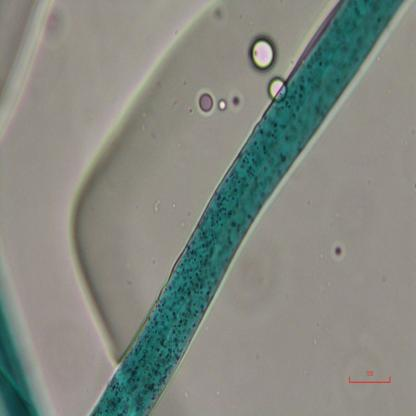Air bubble: (0, 3, 203, 301), (247, 35, 276, 74), (196, 88, 218, 117), (266, 78, 286, 101), (218, 100, 228, 112)
Background material: (227, 241, 283, 323), (210, 3, 232, 34), (331, 239, 347, 262), (147, 191, 159, 218), (312, 336, 319, 349)
Microfibre: (87, 0, 405, 415), (0, 254, 49, 414)
